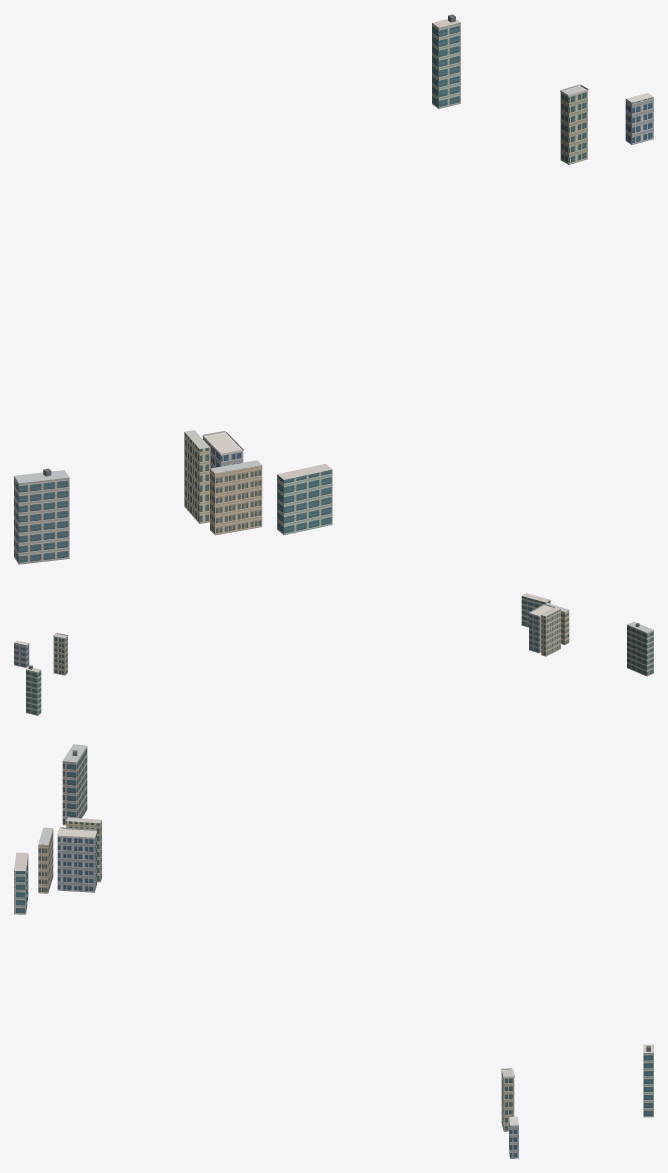
3 renders of one model, top to bottom at view 1: azimuth 30°, elevation 25°; view 2: azimuth 150°, elevation 25°; view 3: azimuth 270°, elevation 25°, orthographic. The views are drawn at different scales.
Visible parts, largest first — view 1: Station 2 surrounding real OSM building footprints; view 2: Station 2 surrounding real OSM building footprints; view 3: Station 2 surrounding real OSM building footprints.
Boxes of the visible parts, bbox=[...] form: Station 2 surrounding real OSM building footprints: bbox=[14, 14, 653, 564]; Station 2 surrounding real OSM building footprints: bbox=[14, 593, 653, 715]; Station 2 surrounding real OSM building footprints: bbox=[14, 744, 653, 1158].
Size of the model in its own units: 300 by 27.25 by 232.
Materials: 14 (6 with a texture image).
